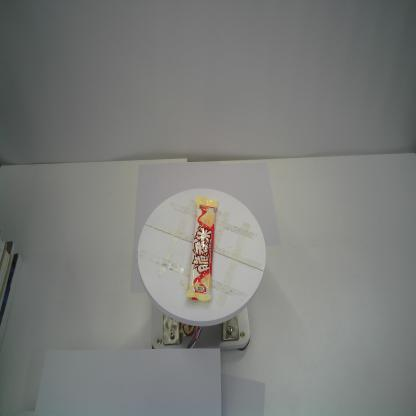Chocolate: (184, 195, 220, 302)
